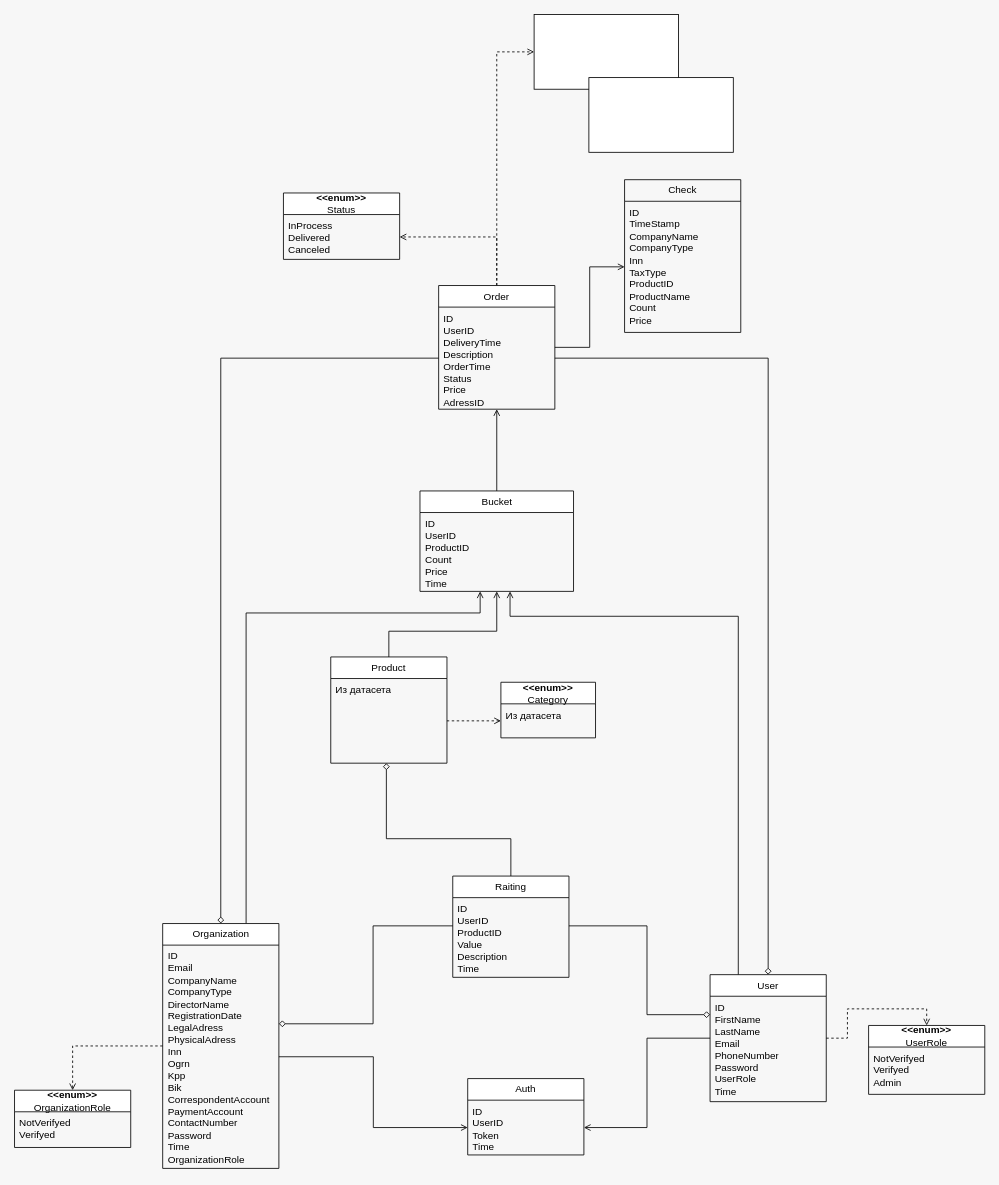
The diagram is 999 pixels wide and 1185 high, and some of its shapes have lost their labels. The shapes that lost their labels are listed below. From the top down, each one's centre as x and y in pixels, then its label:
point 606,51: Адреса можно брать через API сайта адресов.
point 660,114: Необходимо реализовать функцию подсчёта времени доставки
